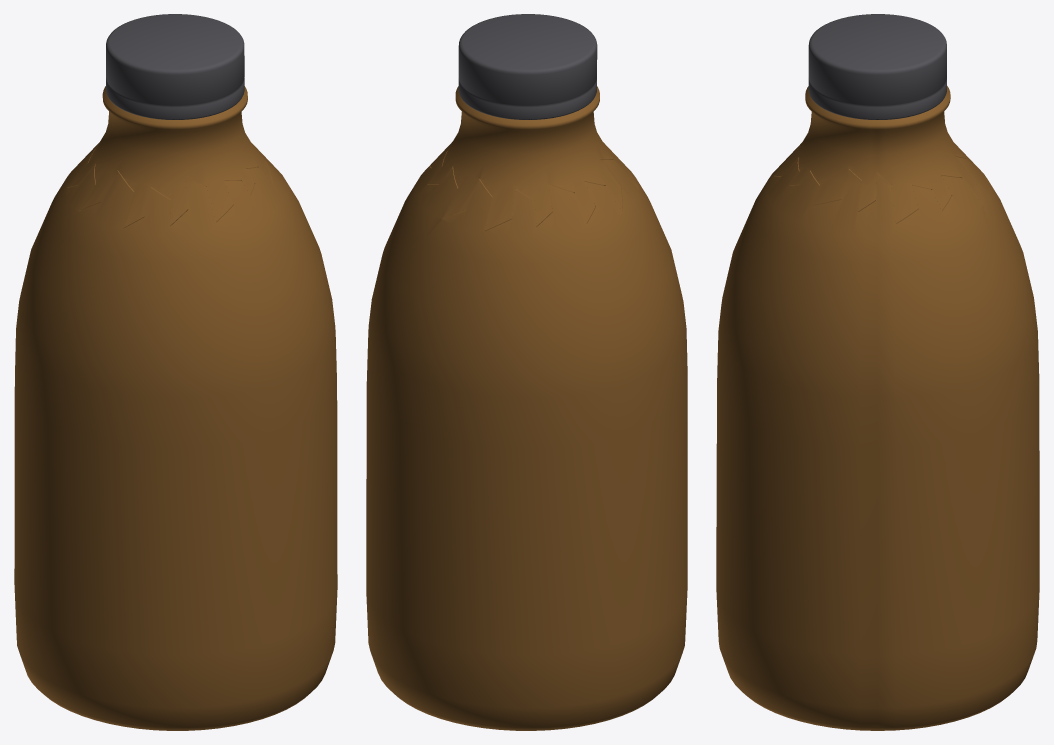
Rendered from bottle_growler_broken.glb.
The picture shows the model from 3 angles, left to right: view 1: azimuth 30°, elevation 25°; view 2: azimuth 150°, elevation 25°; view 3: azimuth 270°, elevation 25°; orthographic projection.
Visible parts, largest first — view 1: Glass.001, Neck, Cap; view 2: Glass.001, Neck, Cap; view 3: Glass.001, Neck, Cap.
Boxes of the visible parts, bbox=[...] form: Glass.001: bbox=[14, 138, 337, 730]; Neck: bbox=[68, 86, 272, 227]; Cap: bbox=[106, 14, 244, 119]; Glass.001: bbox=[366, 146, 687, 730]; Neck: bbox=[428, 86, 636, 230]; Cap: bbox=[458, 14, 597, 119]; Glass.001: bbox=[716, 143, 1039, 730]; Neck: bbox=[774, 86, 986, 223]; Cap: bbox=[808, 14, 946, 119].
Size of the model in its own units: 0.1006 by 0.2172 by 0.101.
